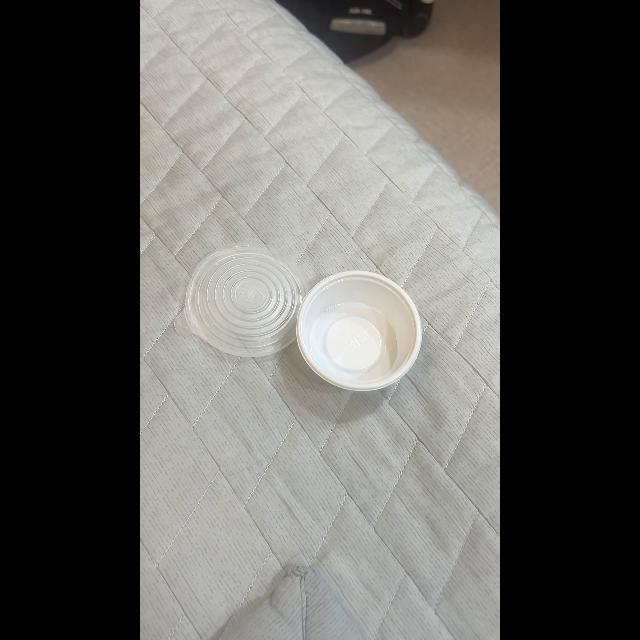clean: (295, 271, 423, 389), (185, 248, 308, 356)
